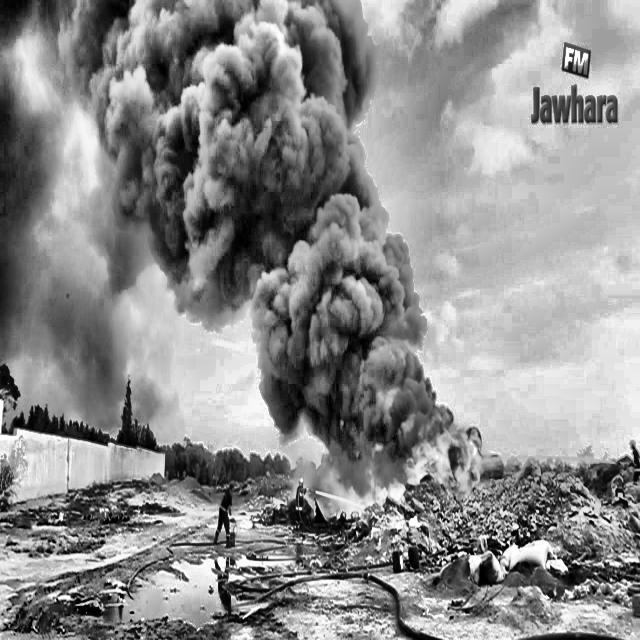fire: (280, 301, 512, 546)
